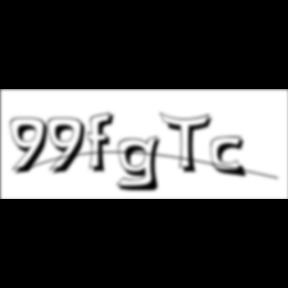9: (10, 117, 55, 177), (48, 117, 92, 177)
T: (160, 112, 218, 176)
c: (212, 136, 252, 180)
f: (88, 111, 120, 175)
g: (116, 134, 168, 194)
